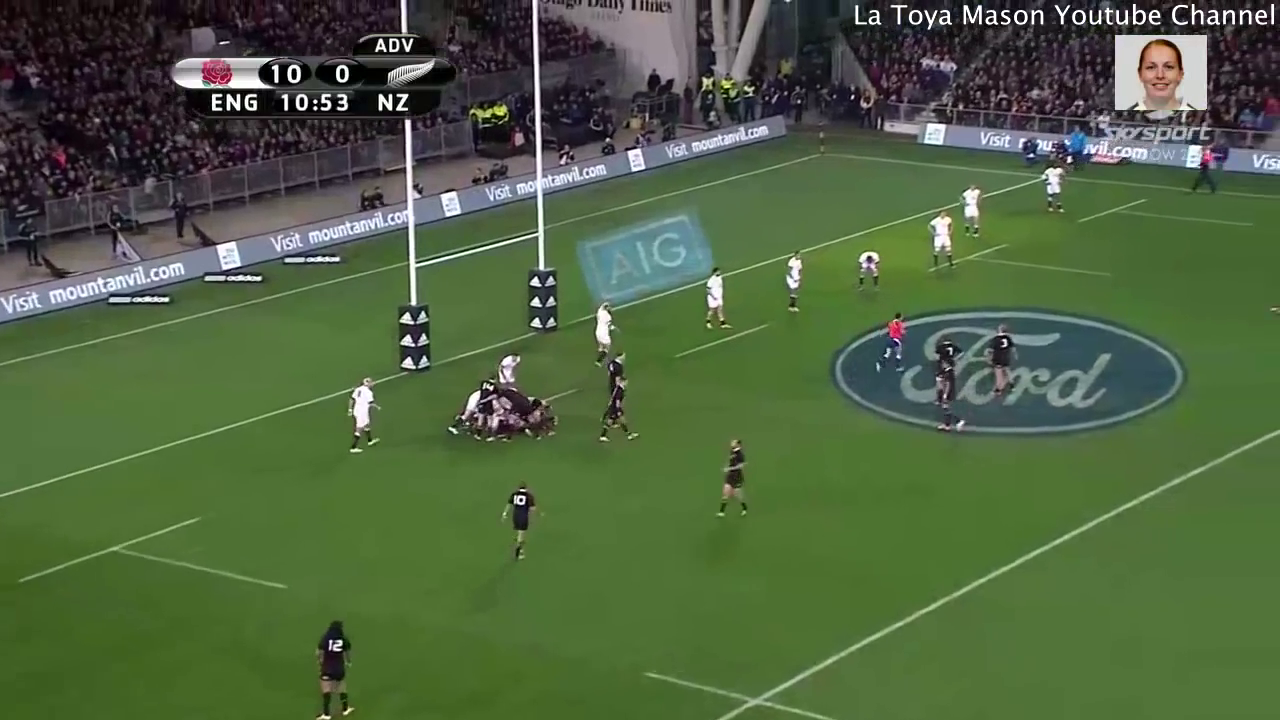player: (301, 611, 360, 720), (708, 429, 762, 532), (335, 370, 394, 464), (498, 473, 549, 565), (594, 374, 643, 452), (870, 301, 912, 380), (928, 356, 969, 435), (982, 318, 1019, 398), (775, 244, 813, 318), (698, 263, 735, 337), (925, 207, 963, 277), (495, 378, 534, 446), (955, 178, 988, 250), (585, 294, 616, 367), (475, 372, 502, 445), (1038, 159, 1068, 219), (490, 350, 530, 392), (853, 244, 884, 294), (604, 346, 633, 390), (932, 333, 961, 367)
post: (387, 126, 575, 381)
ruck: (436, 377, 562, 451)
